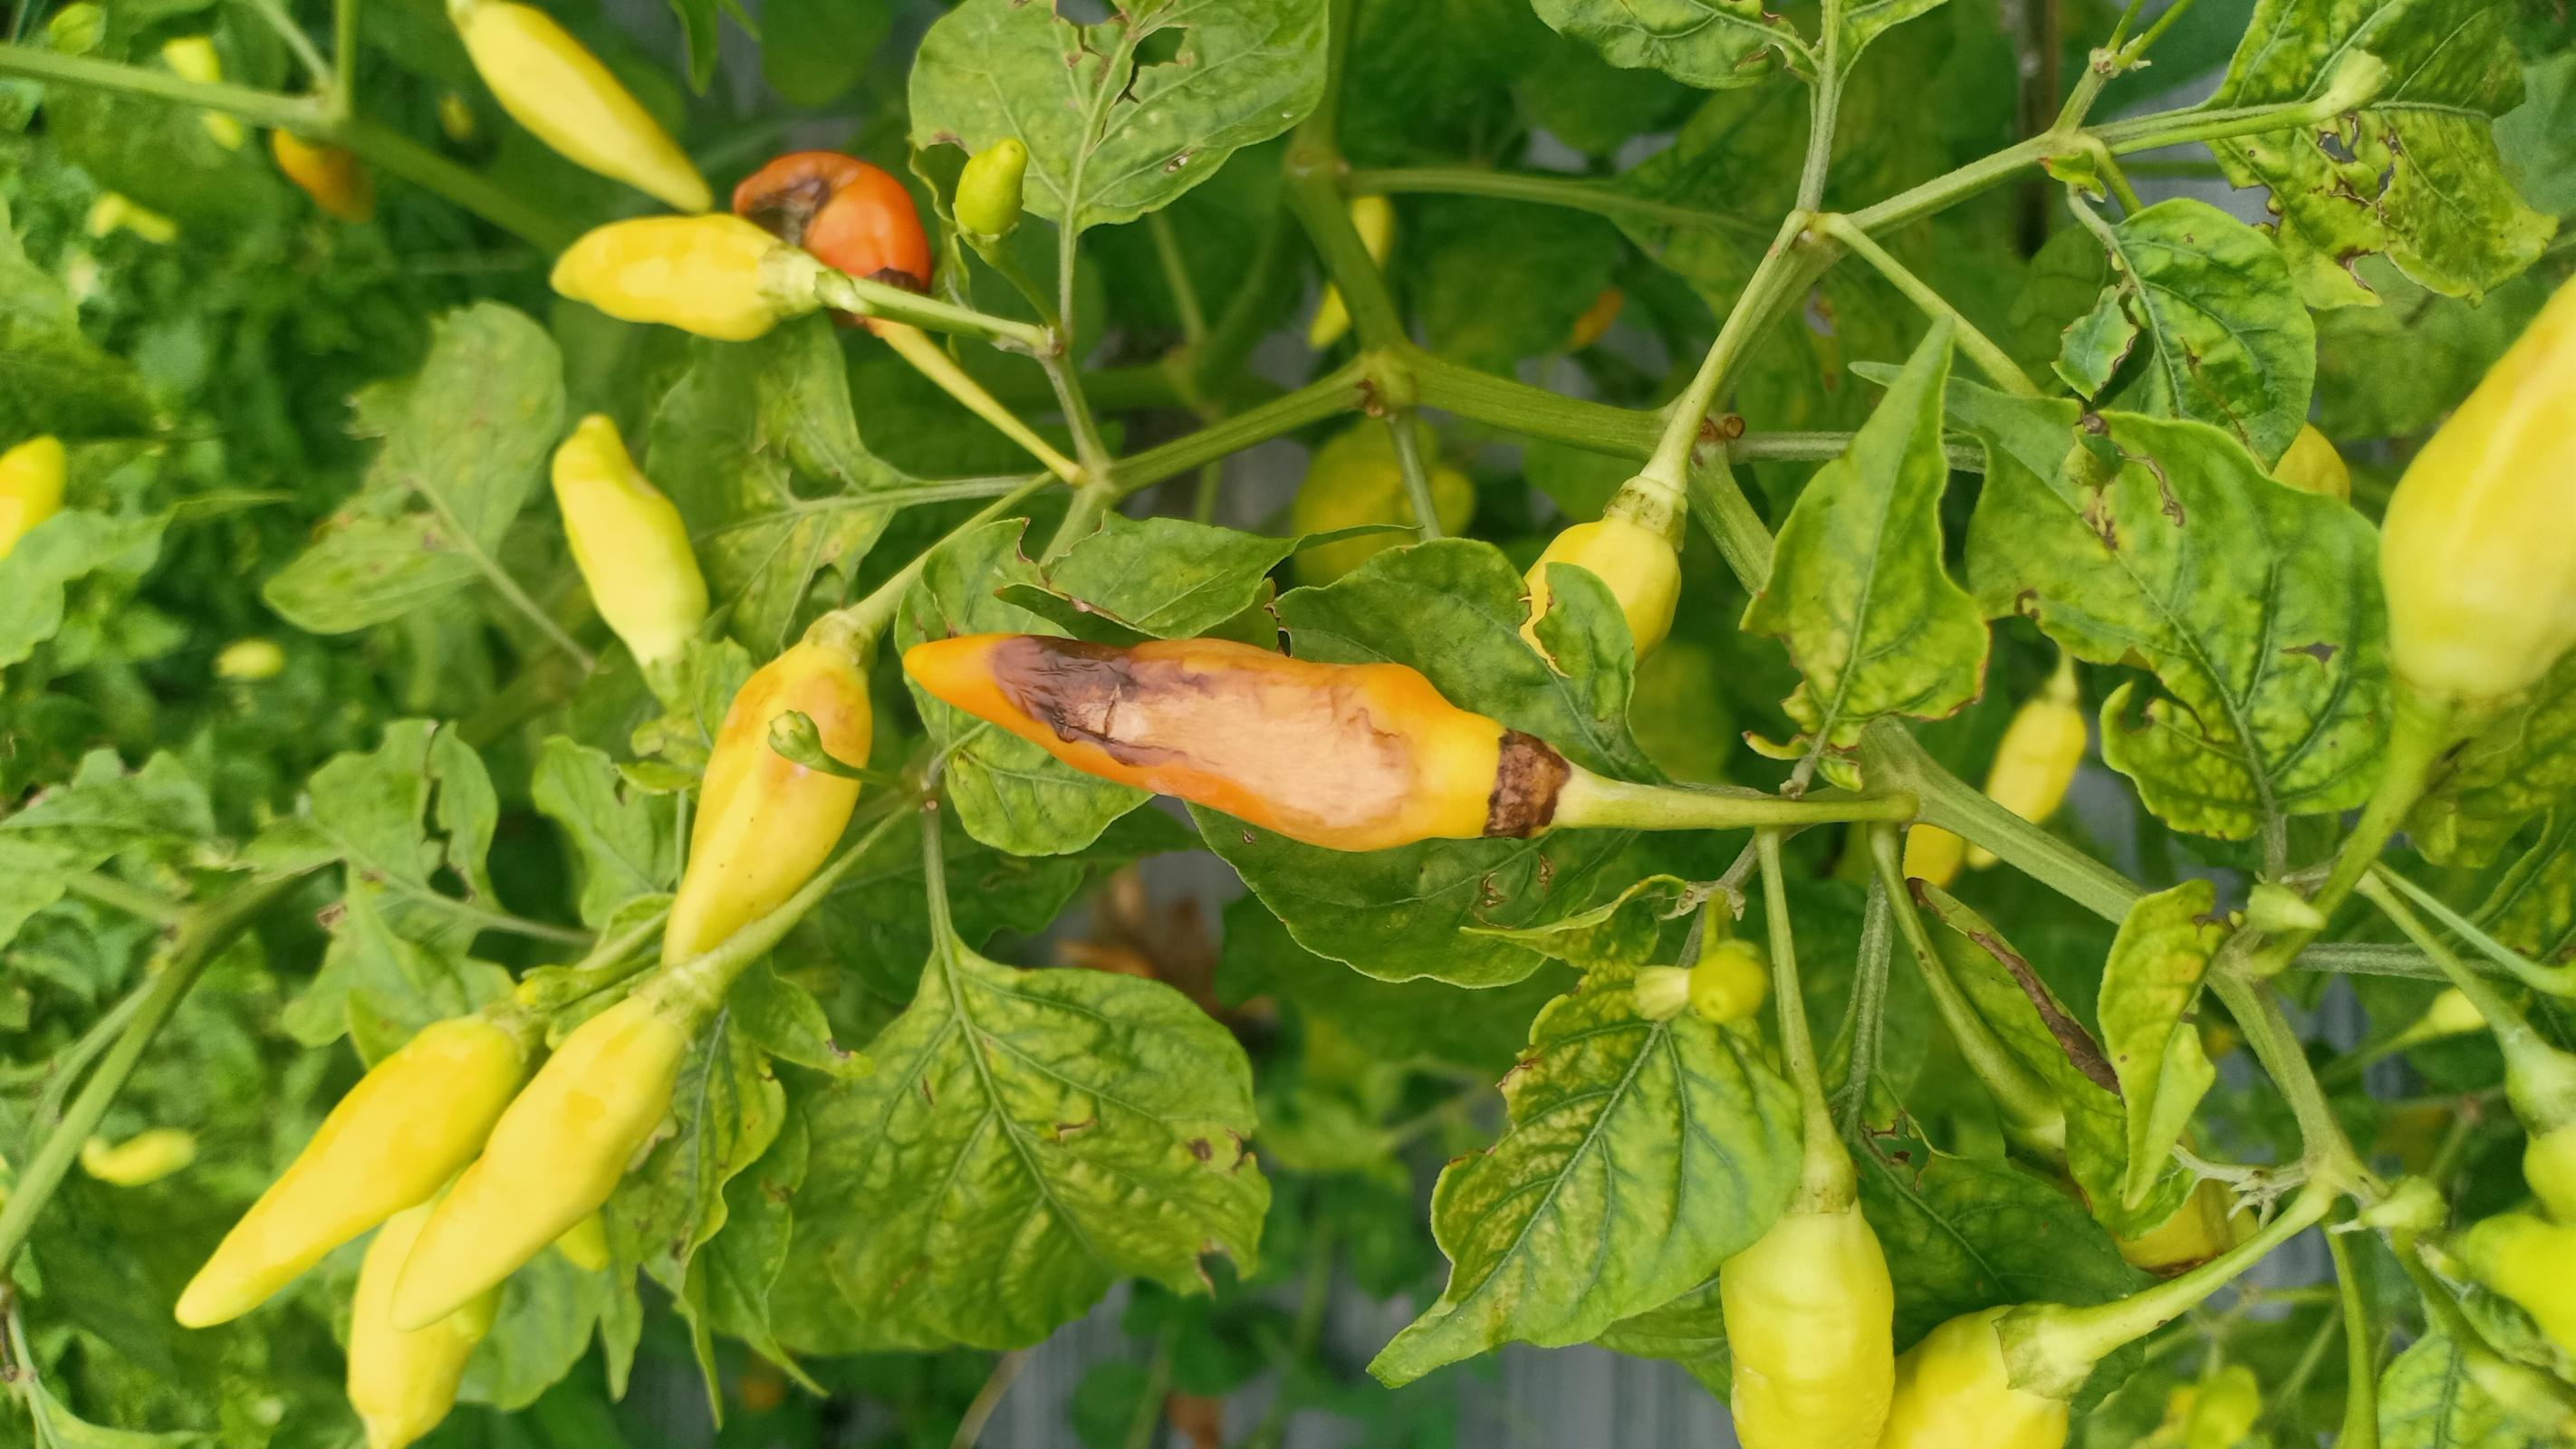antraknosa: (908, 633, 1511, 849), (729, 159, 924, 288)
cabai_normal: (175, 1014, 529, 1329), (393, 996, 678, 1325), (2385, 283, 2576, 695), (672, 642, 869, 955), (453, 4, 708, 202), (1713, 1203, 1895, 1449), (550, 416, 720, 655), (550, 221, 798, 340), (1527, 520, 1683, 663), (1918, 1309, 2068, 1449), (1978, 697, 2084, 860), (957, 142, 1024, 251)
